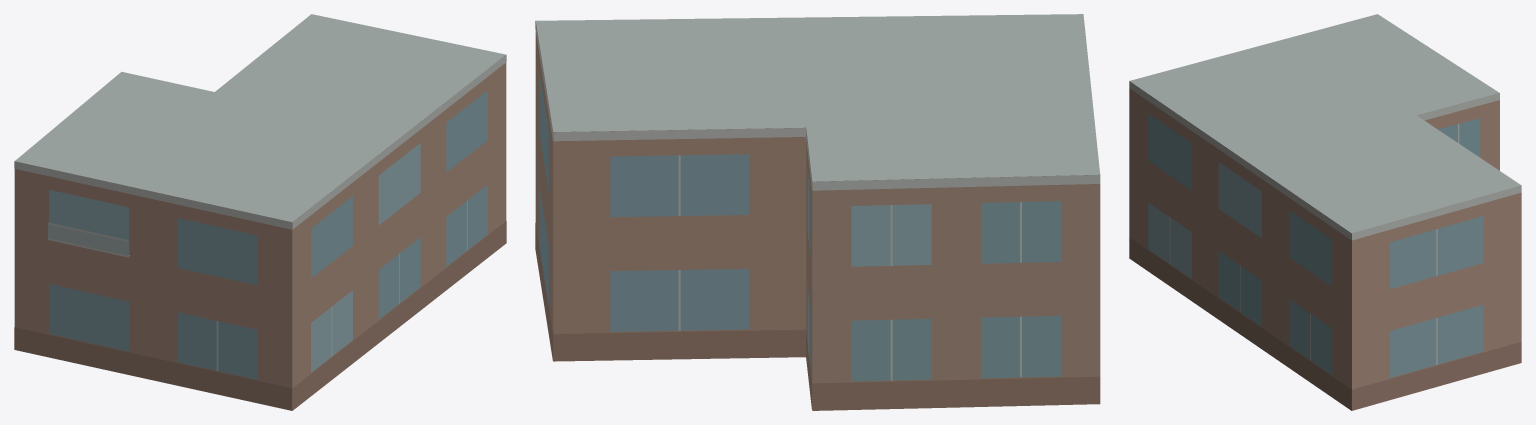
The model's file is survey-upis-33037733.glb.
3 renders of one model, left to right at view 1: azimuth 30°, elevation 25°; view 2: azimuth 150°, elevation 25°; view 3: azimuth 270°, elevation 25°, orthographic. The views are drawn at different scales.
Parts seen in each view (by area): view 1: survey-upis-33037733.tmp; view 2: survey-upis-33037733.tmp; view 3: survey-upis-33037733.tmp.
Part boxes in pixels (left/top/right/bottom): survey-upis-33037733.tmp: left=14, top=14, right=506, bottom=410; survey-upis-33037733.tmp: left=535, top=14, right=1100, bottom=410; survey-upis-33037733.tmp: left=1129, top=14, right=1521, bottom=410.
Size of the model in its own units: 16.19 by 6.1 by 12.24.
